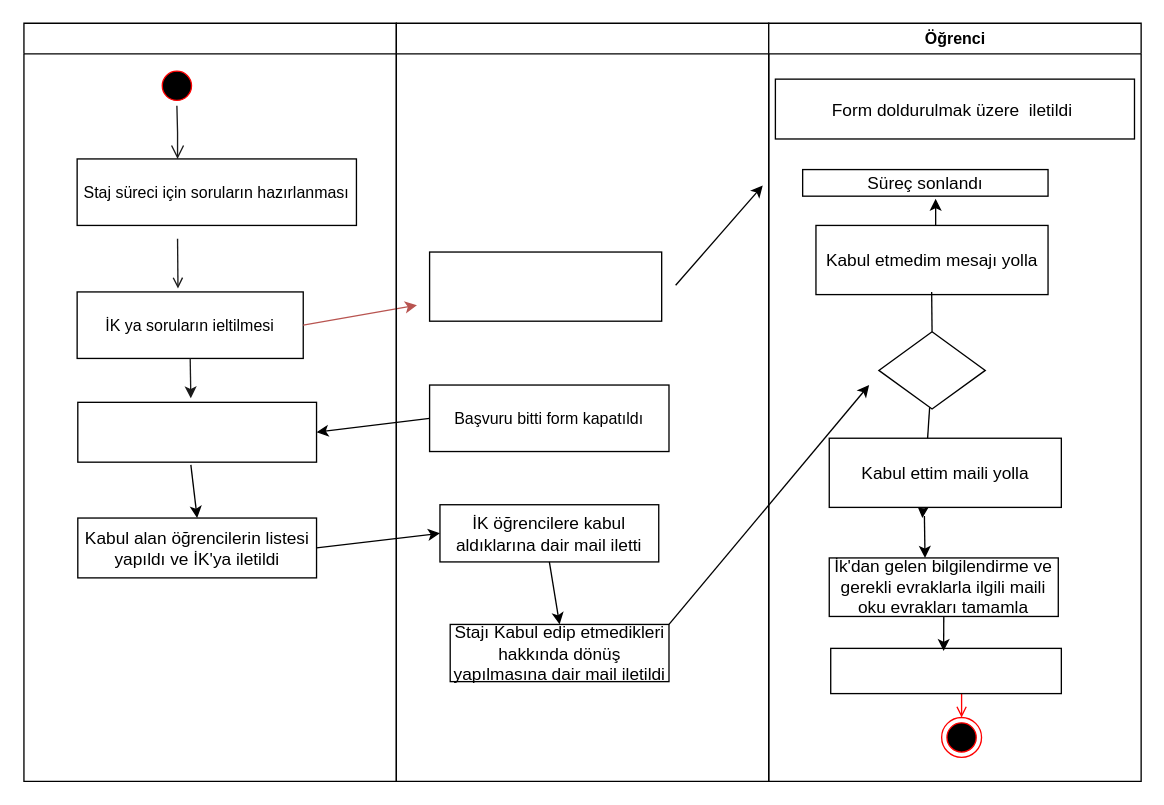
The diagram is 1164 pixels wide and 805 high, and some of its shapes have lost their labels. Here are the shapes that lost their labels. From the top down, the box of each, then its label:
(428, 251, 662, 321): Soruların Google Forms da yaratılması
(878, 331, 985, 409): Staj Kabulü
(23, 22, 396, 781): Staj Yöneticisi
(395, 22, 769, 781): İnsan Kaynakları
(76, 401, 317, 462): Formlar değerlendirilmeye başlandı
(829, 647, 1061, 694): Staja başla
